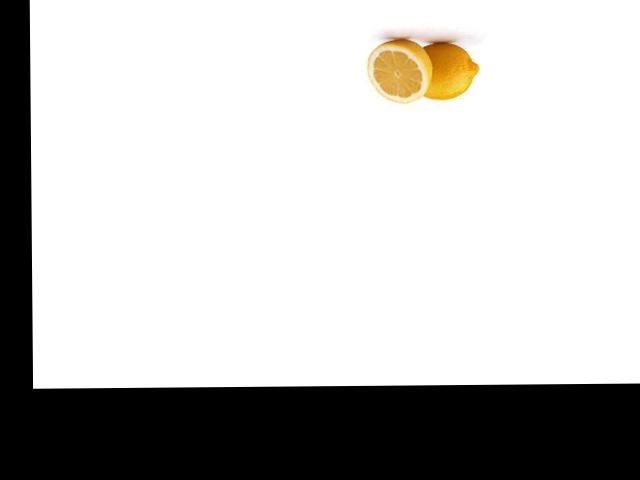lemon: (412, 35, 481, 103)
